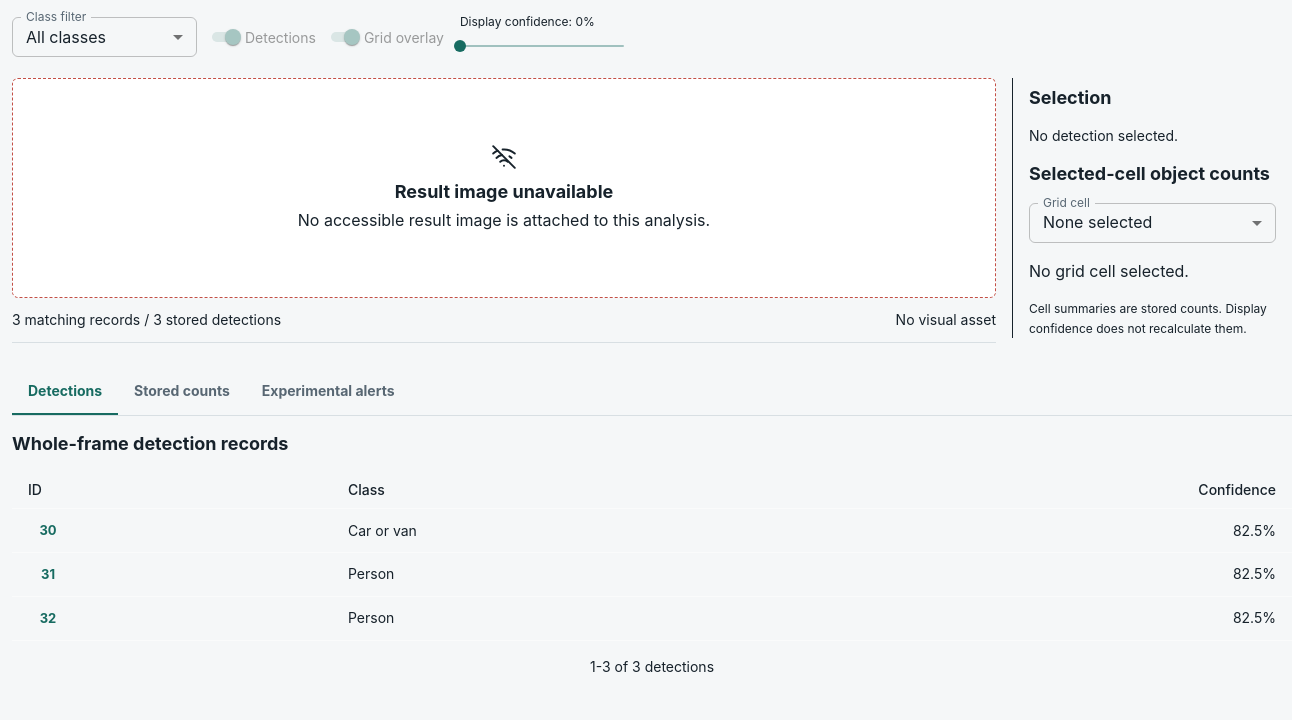
Test case: grid inspection › keeps cell selection available when the image is missing
Check: the heading "Result image unavailable" is shown, box left=395, top=181, right=613, bottom=202
Select "Row 1, column 1" in the dropdown labelled "Grid cell" at coordinates (1152, 223), box left=1029, top=203, right=1276, bottom=243
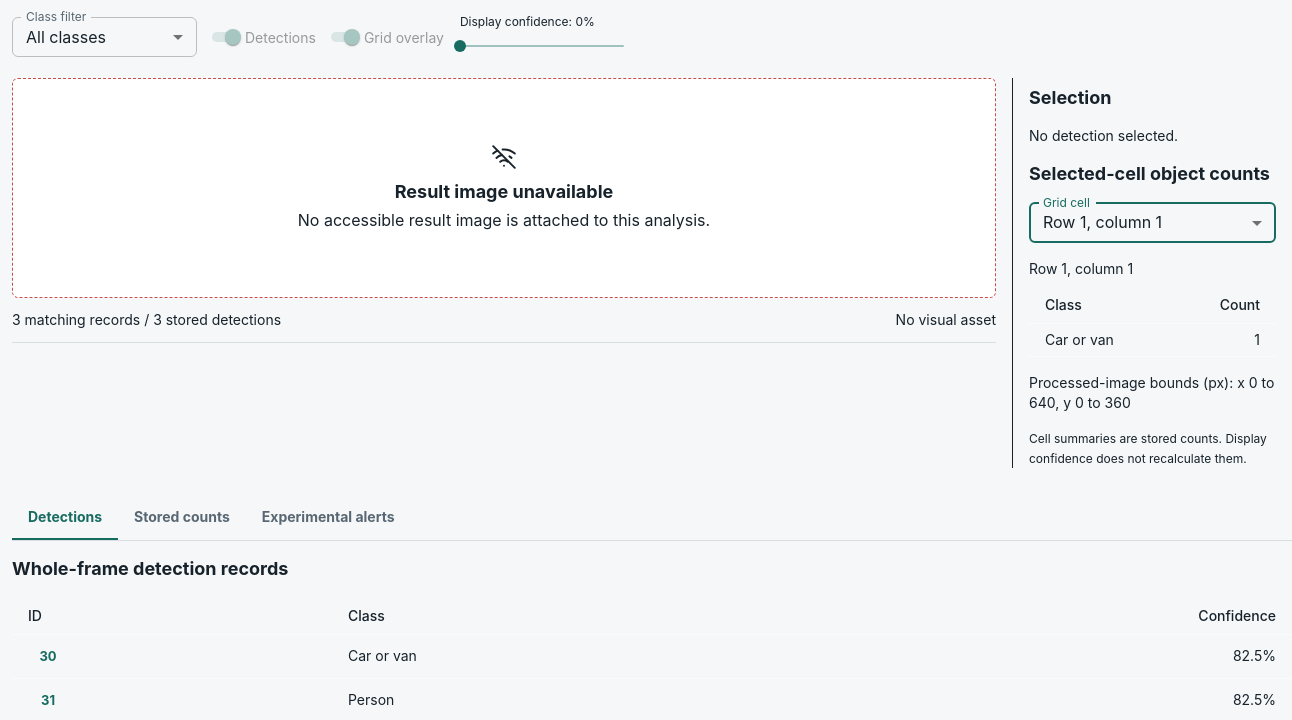
Check: the text "1" is shown, box left=1152, top=323, right=1276, bottom=356
